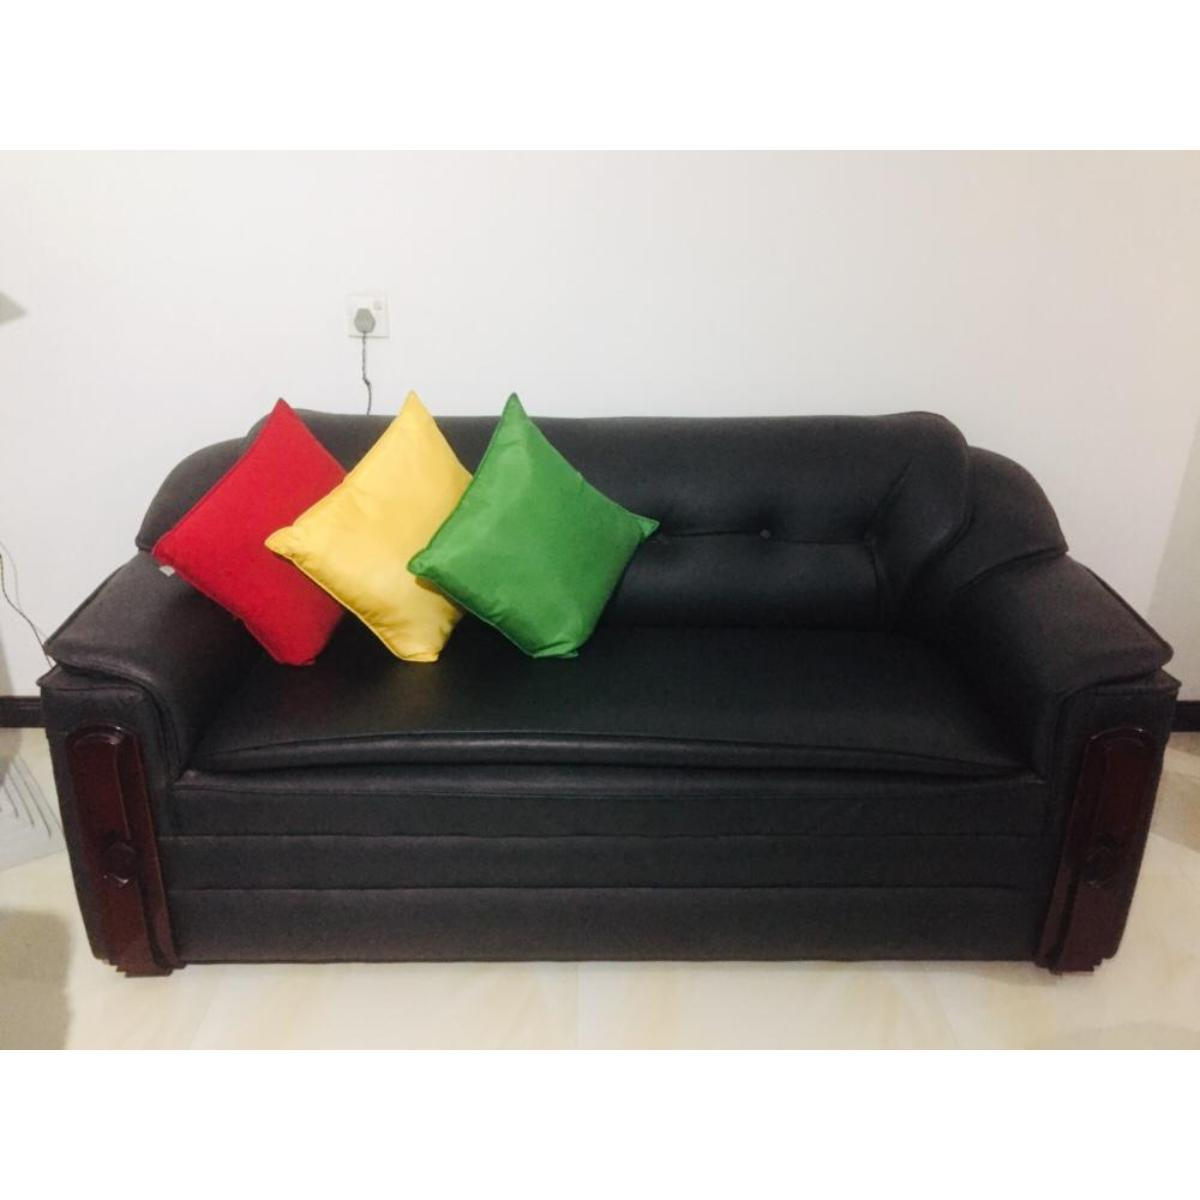Sofa: (41, 395, 1175, 990)
